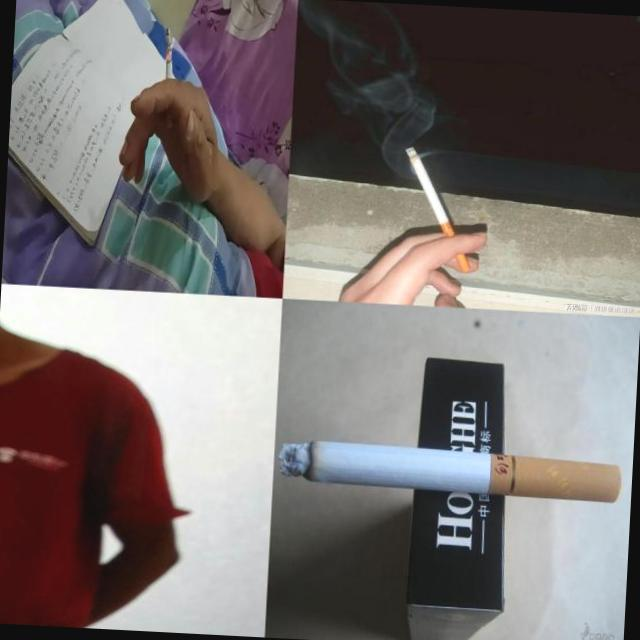cigarette: (275, 436, 623, 507), (399, 146, 478, 274), (160, 28, 178, 130)
